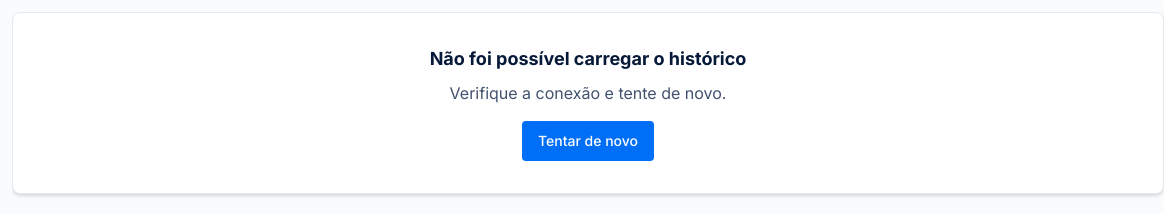
Test: History › deve oferecer nova tentativa quando o histórico não carrega
Step 1. Click the button "Tentar de novo" → [588, 141], box [522, 121, 654, 161]
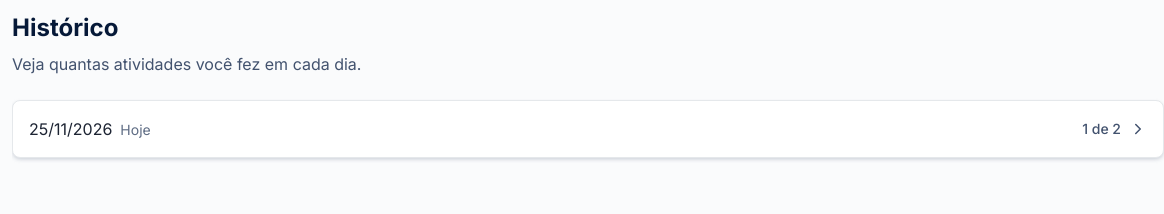
Expected: the text "1 de 2" is shown, [1082, 119, 1121, 139]
